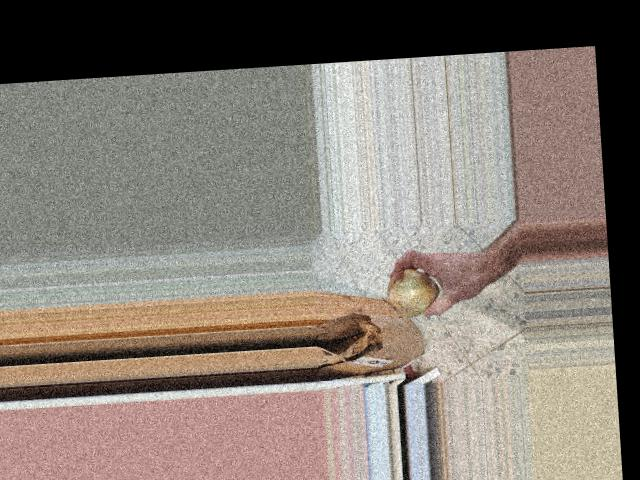onion: (375, 264, 443, 319)
